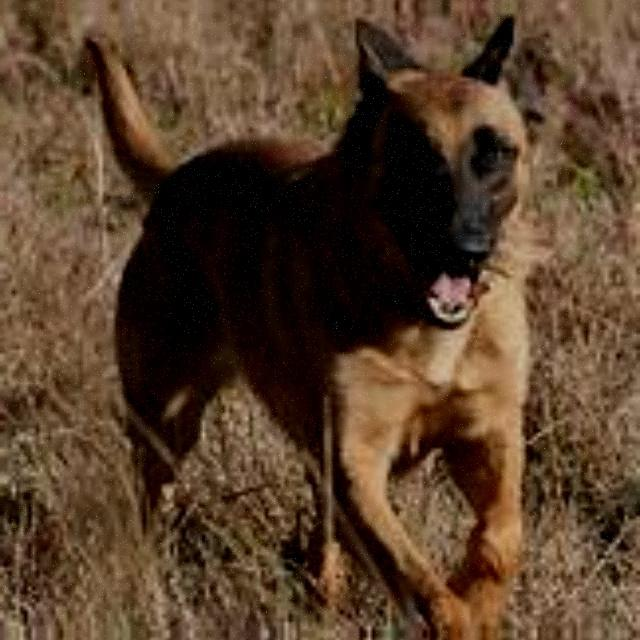dog: (60, 21, 562, 618)
